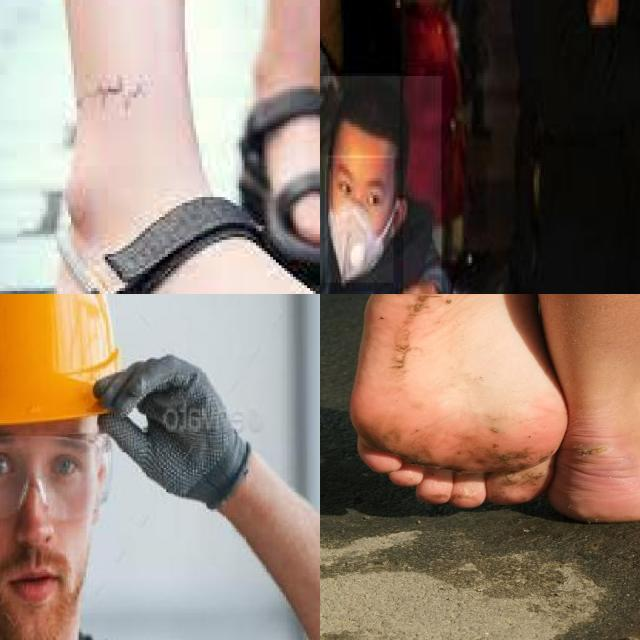Barefoots: (348, 294, 567, 508), (547, 358, 640, 522)
No_Glasses: (330, 156, 387, 223)
Sandals: (18, 156, 320, 294)
face_mask: (324, 155, 394, 283)
face_nomask: (0, 488, 91, 640)
glasses: (0, 435, 110, 522)
hand_glove: (94, 355, 250, 508)
hand_noglove: (389, 255, 444, 294)
head_helmet: (0, 294, 119, 425)
head_nohelmet: (333, 73, 400, 158)
person: (320, 76, 443, 294), (320, 0, 403, 294)
